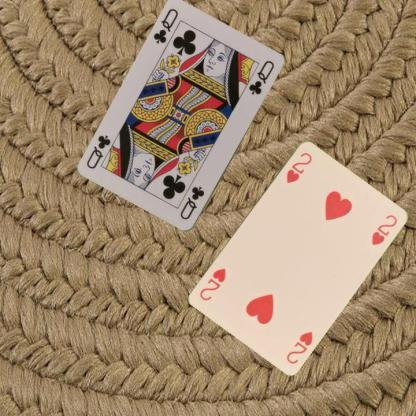2h: (284, 328, 314, 365), (283, 149, 313, 184)
Qc: (150, 5, 180, 46), (178, 184, 206, 221)
